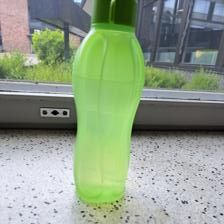bottle: (70, 1, 152, 204)
